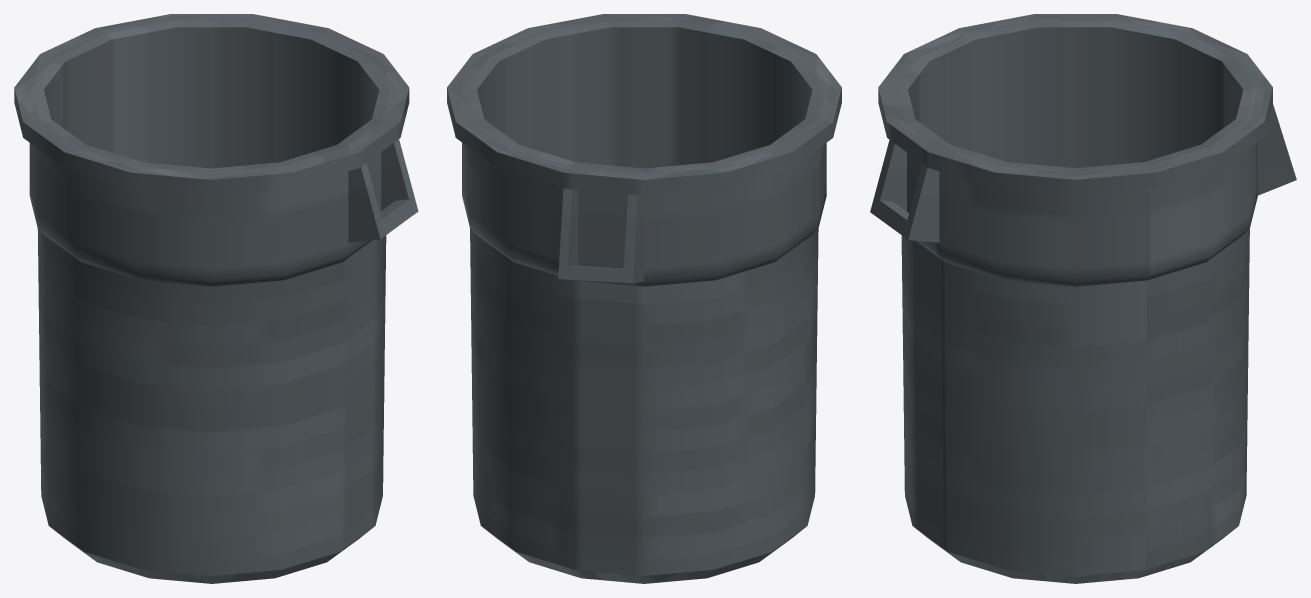
The model's file is JanitorTrashcan.fbx.
3 views of the same model, side by side, from view 1: azimuth 30°, elevation 25°; view 2: azimuth 150°, elevation 25°; view 3: azimuth 270°, elevation 25° (orthographic).
Visible parts, largest first — view 1: pCylinder1; view 2: pCylinder1; view 3: pCylinder1.
Part boxes in pixels (<box>): pCylinder1: <box>14,14,418,583</box>; pCylinder1: <box>447,14,841,583</box>; pCylinder1: <box>870,14,1296,583</box>.
Size of the model in its own units: 2.28 by 2.71 by 2.48.
